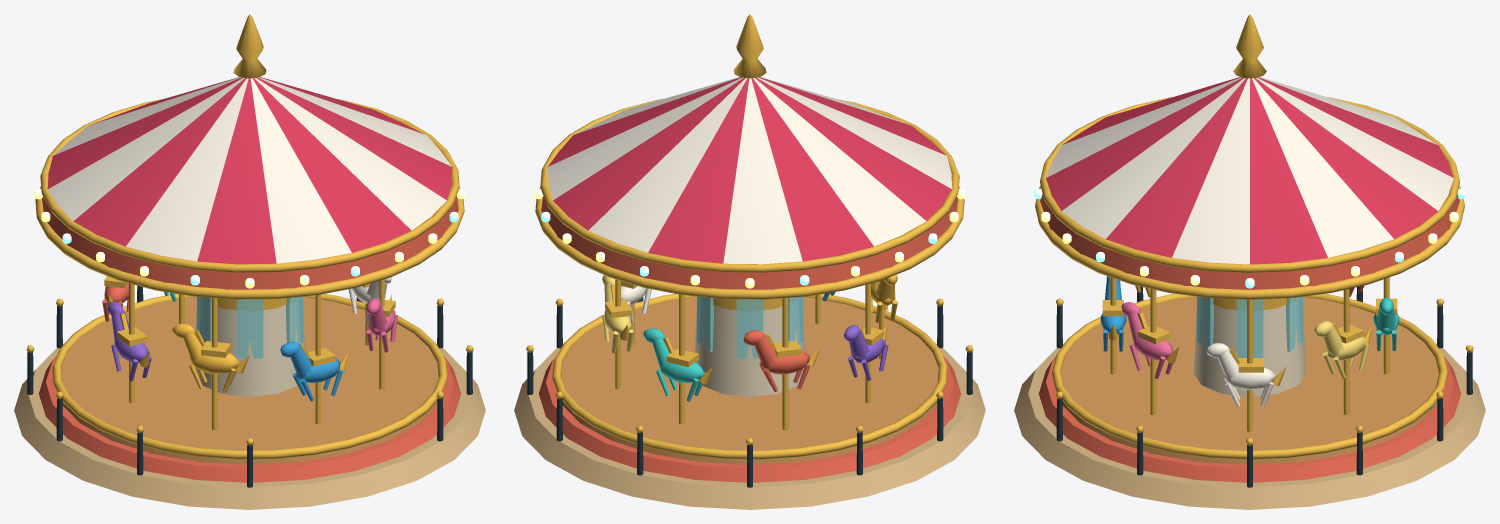
File: carousel.glb
3 renders of one model, left to right at view 1: azimuth 30°, elevation 25°; view 2: azimuth 150°, elevation 25°; view 3: azimuth 270°, elevation 25°, orthographic.
Visible parts, largest first — view 1: Mesh_lightWood, Mesh_warmWhite (×2), Mesh_crimson, Mesh_gold, Mesh_sandStone, Mesh_coral (×2), Mesh_cream, Mesh_glass, Mesh_iron, Mesh_mango, Mesh_skyBlue, Mesh_orchid (+2 smaller); view 2: Mesh_lightWood, Mesh_warmWhite (×2), Mesh_crimson, Mesh_gold, Mesh_coral (×3), Mesh_sandStone, Mesh_cream, Mesh_glass, Mesh_iron, Mesh_turquoise, Mesh_orchid, Mesh_banana (+2 smaller); view 3: Mesh_lightWood, Mesh_warmWhite (×2), Mesh_crimson, Mesh_gold, Mesh_sandStone, Mesh_coral (×2), Mesh_cream, Mesh_glass, Mesh_iron, Mesh_banana, Mesh_flamingo, Mesh_turquoise (+2 smaller).
Part boxes in pixels (x1,y1,x2,y2): Mesh_lightWood: (61,297,438,464); Mesh_warmWhite (×2): (48,77,451,322); Mesh_crimson: (47,77,452,264); Mesh_gold: (35,14,464,459); Mesh_sandStone: (14,343,485,509); Mesh_coral (×2): (38,196,461,482); Mesh_cream: (194,299,304,396); Mesh_glass: (197,296,302,358); Mesh_iron: (27,285,472,487); Mesh_mango: (172,323,249,392); Mesh_skyBlue: (280,341,342,401); Mesh_orchid: (107,301,151,381); Mesh_lightWood: (561,297,938,464); Mesh_warmWhite (×2): (547,77,952,323); Mesh_crimson: (548,77,951,263); Mesh_gold: (535,14,964,459); Mesh_coral (×3): (538,196,961,482); Mesh_sandStone: (514,343,985,509); Mesh_cream: (695,299,804,396); Mesh_glass: (697,296,802,358); Mesh_iron: (527,297,972,487); Mesh_turquoise: (643,328,704,401); Mesh_orchid: (843,325,888,380); Mesh_banana: (602,275,633,353); Mesh_lightWood: (1061,297,1438,464); Mesh_warmWhite (×2): (1046,77,1453,406); Mesh_crimson: (1046,77,1453,264); Mesh_gold: (1035,14,1464,459); Mesh_sandStone: (1014,343,1485,509); Mesh_coral (×2): (1038,193,1461,482); Mesh_cream: (1194,299,1305,396); Mesh_glass: (1197,296,1302,358); Mesh_iron: (1056,286,1472,487); Mesh_banana: (1314,321,1369,378); Mesh_flamingo: (1121,302,1172,378); Mesh_turquoise: (1373,297,1399,350).
Size of the model in its own units: 6.7 by 6.21 by 6.7.
